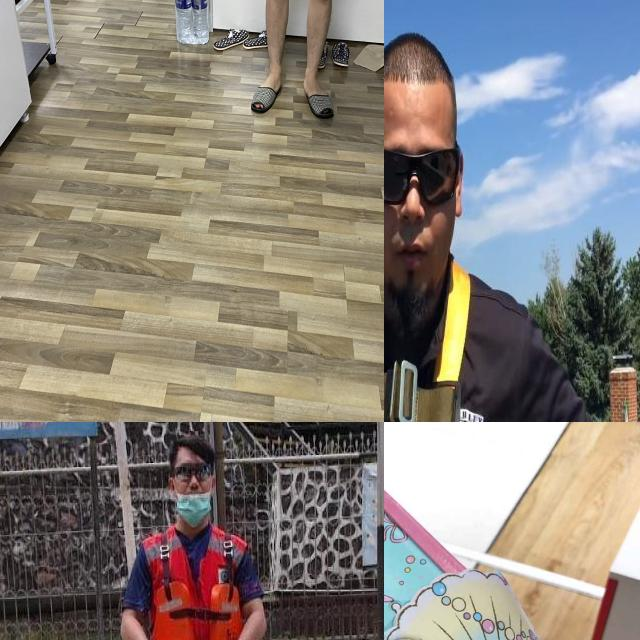Harness: (384, 262, 472, 422)
Sandals: (384, 422, 614, 640), (303, 71, 335, 119), (252, 66, 282, 113)
person: (102, 424, 287, 640)
vest: (141, 525, 250, 640)
